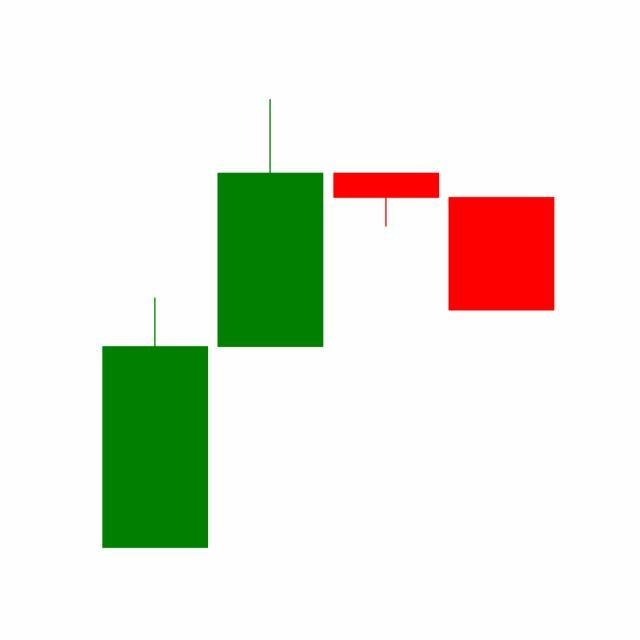Hammer: (329, 172, 445, 229)
